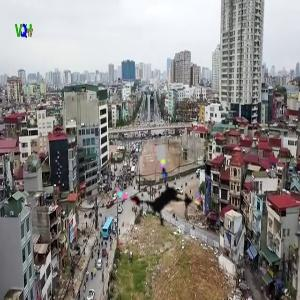drone: (114, 141, 208, 235)
